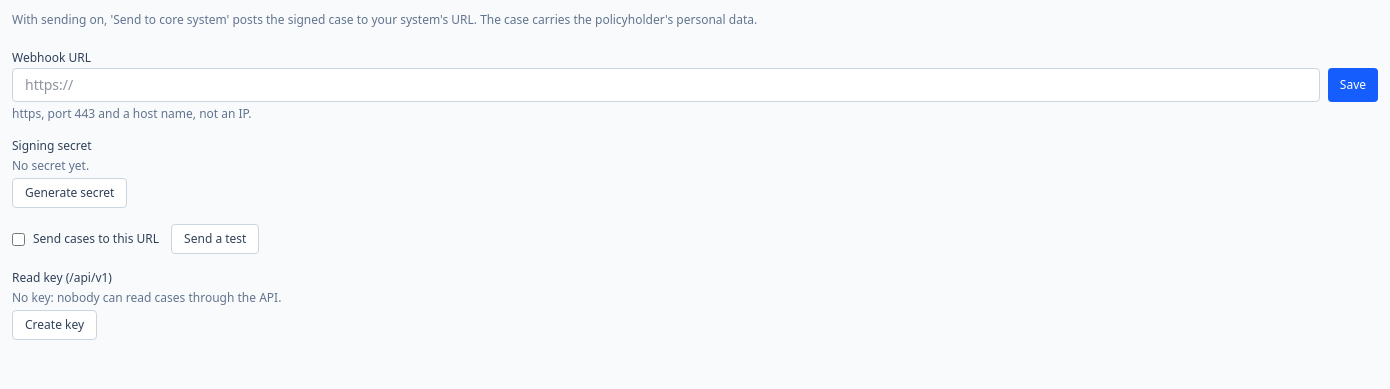
Test case: CoreSyncPanel › sin motivo conocido, sólo el aviso genérico: nunca el mensaje crudo
Click the button "Send a test". click: (215, 239)
box: x1=171 y1=224 x2=259 y2=254
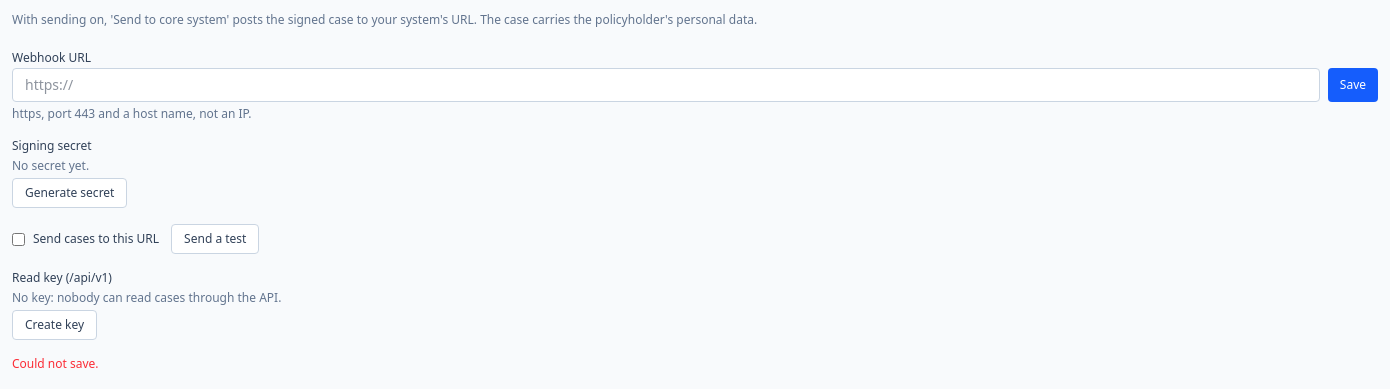
Result: the message reads "Could not save." at x1=12 y1=355 x2=98 y2=372
